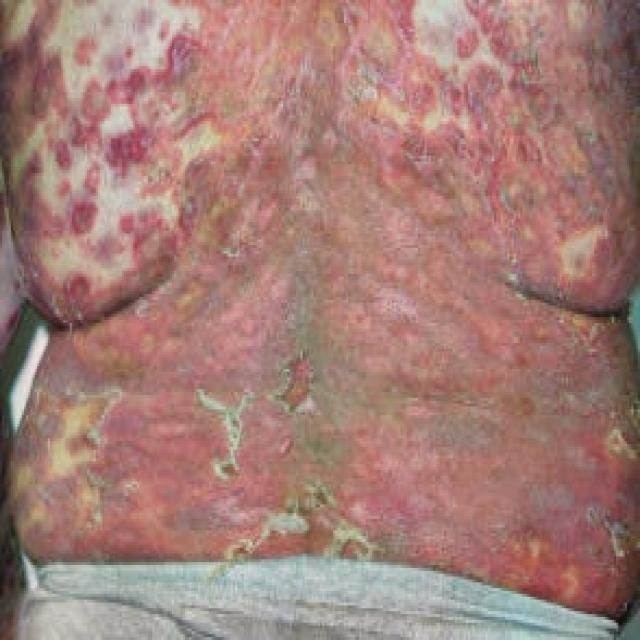Atopic-Dermatitis: (24, 13, 635, 595)
